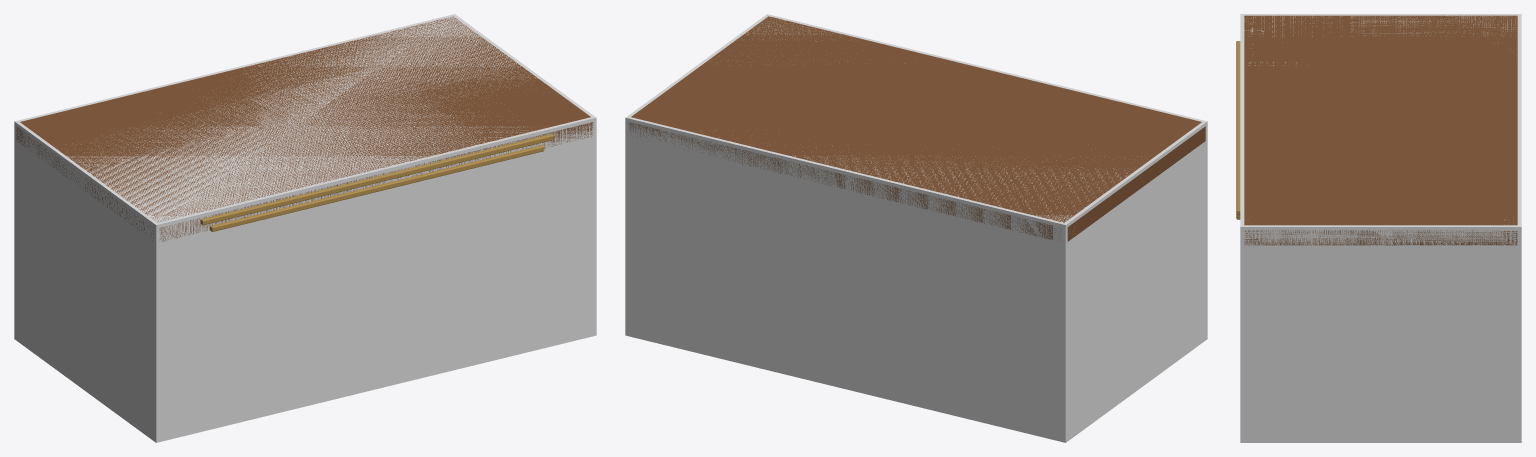
The model's file is dining-table_luxury.glb.
The picture shows the model from 3 angles, left to right: view 1: azimuth 30°, elevation 25°; view 2: azimuth 150°, elevation 25°; view 3: azimuth 270°, elevation 25°; orthographic projection.
Parts seen in each view (by area): view 1: COL_dining-table, MESH_Top, MESH_TierTrim_01, MESH_TierTrim_02; view 2: COL_dining-table, MESH_Top; view 3: COL_dining-table, MESH_Top, MESH_TierTrim_01.
Boxes of the visible parts, bbox=[...] form: COL_dining-table: bbox=[14, 14, 596, 442]; MESH_Top: bbox=[16, 16, 593, 241]; MESH_TierTrim_01: bbox=[200, 134, 553, 225]; MESH_TierTrim_02: bbox=[210, 145, 544, 231]; COL_dining-table: bbox=[625, 14, 1207, 442]; MESH_Top: bbox=[628, 16, 1205, 241]; COL_dining-table: bbox=[1240, 14, 1521, 442]; MESH_Top: bbox=[1244, 15, 1517, 245]; MESH_TierTrim_01: bbox=[1236, 41, 1240, 215].
Bounding box in the file's own units: 1.65 × 0.78 × 0.933.
